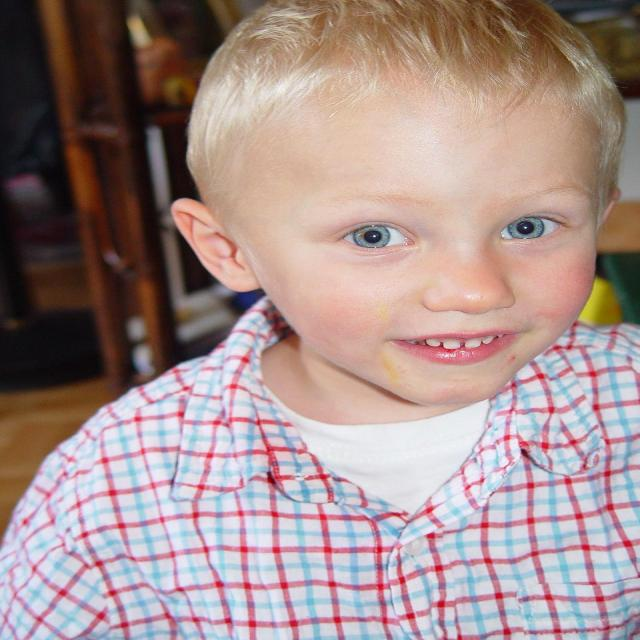no-glass: (337, 214, 578, 262)
